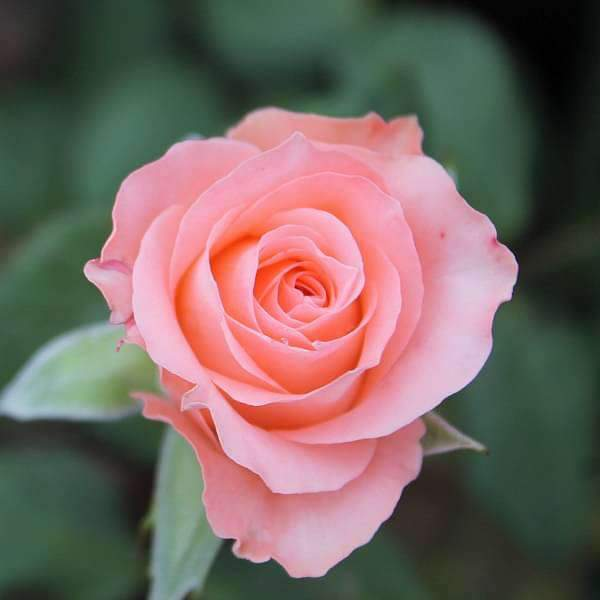rose: (118, 122, 510, 509)
